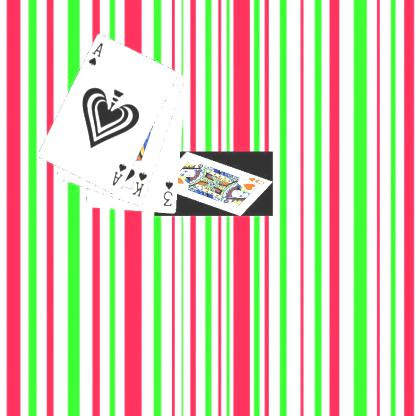3S: (160, 178, 174, 208)
AS: (109, 160, 128, 188), (86, 40, 104, 67)
KS: (129, 169, 149, 198)
